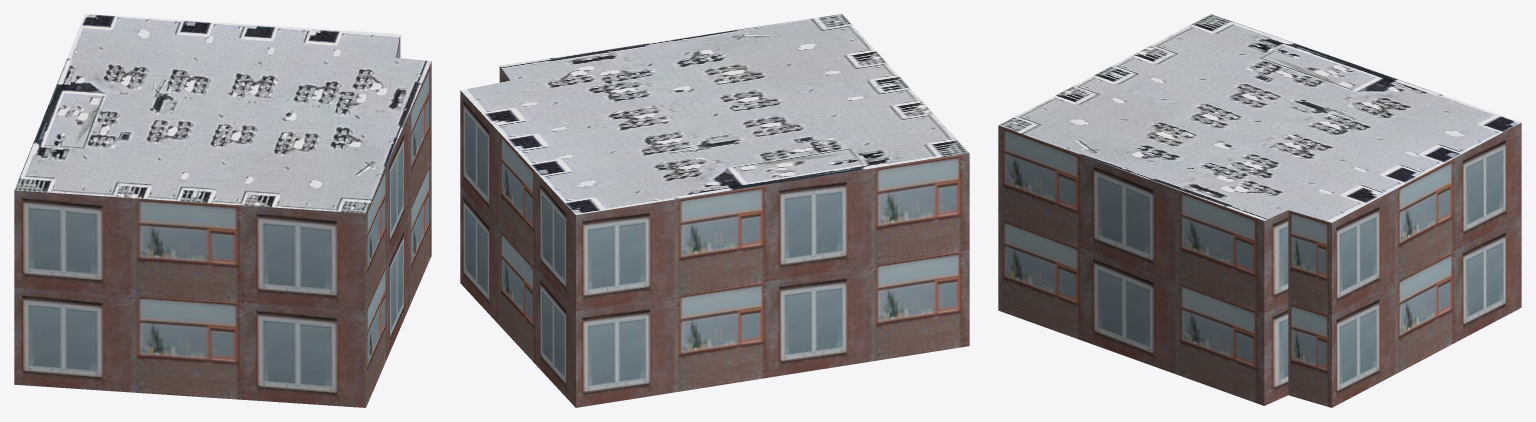
The model's file is ResTex__2959.fbx.
3 renders of one model, left to right at view 1: azimuth 30°, elevation 25°; view 2: azimuth 150°, elevation 25°; view 3: azimuth 270°, elevation 25°, orthographic. The views are drawn at different scales.
Visible parts, largest first — view 1: CityEngineMaterial_19_m, CityEngineMaterial_15_m; view 2: CityEngineMaterial_19_m, CityEngineMaterial_15_m; view 3: CityEngineMaterial_19_m, CityEngineMaterial_15_m.
Boxes of the visible parts, box(x1,y1,x2,y2) form: CityEngineMaterial_19_m: box(14, 35, 431, 407); CityEngineMaterial_15_m: box(14, 14, 431, 213); CityEngineMaterial_19_m: box(460, 66, 969, 407); CityEngineMaterial_15_m: box(460, 14, 968, 214); CityEngineMaterial_19_m: box(998, 123, 1521, 407); CityEngineMaterial_15_m: box(998, 14, 1521, 222).
Bounding box in the file's own units: 14.52 × 6 × 15.37.
Materials: 2 (2 with a texture image).
